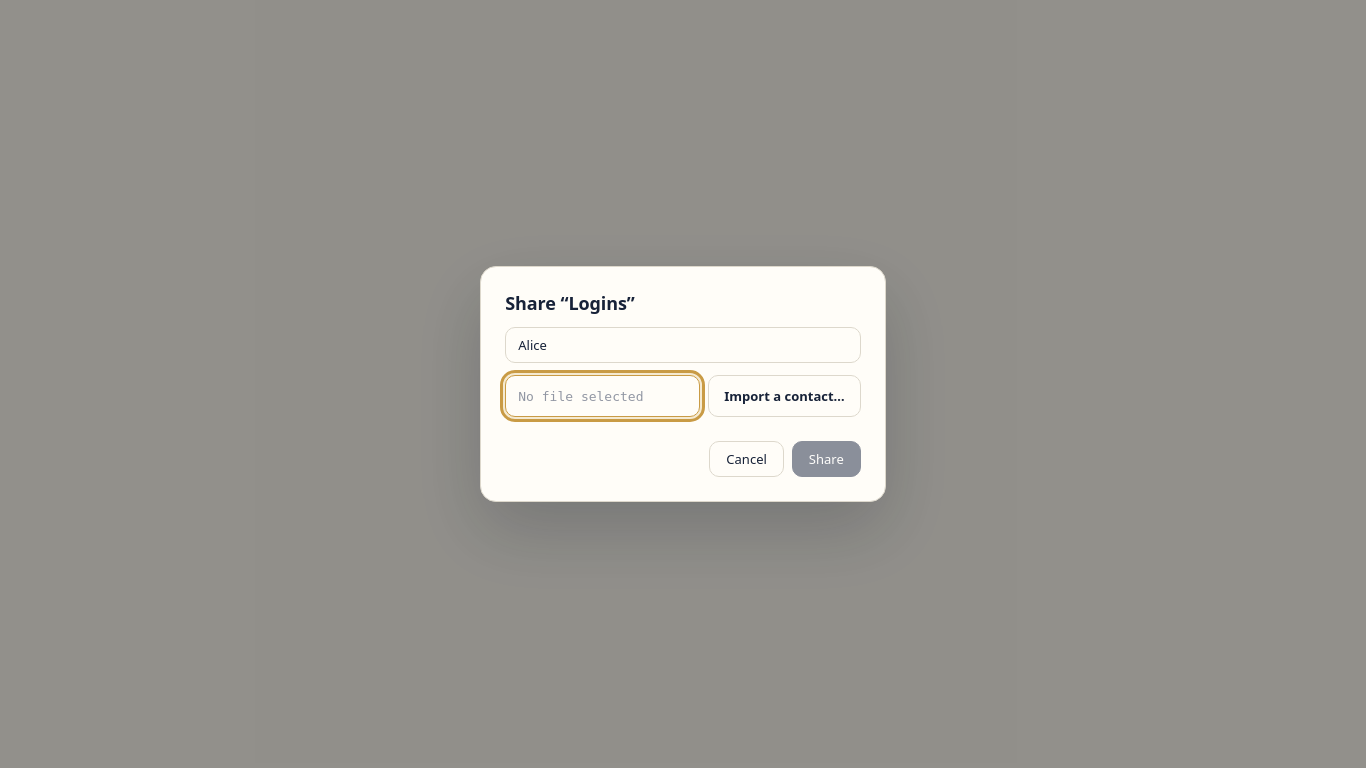
Test case: ShareDialog.svelte › renders a typed error message when sharing fails
Click the button "Alice": (533,345) [505, 327, 861, 363]
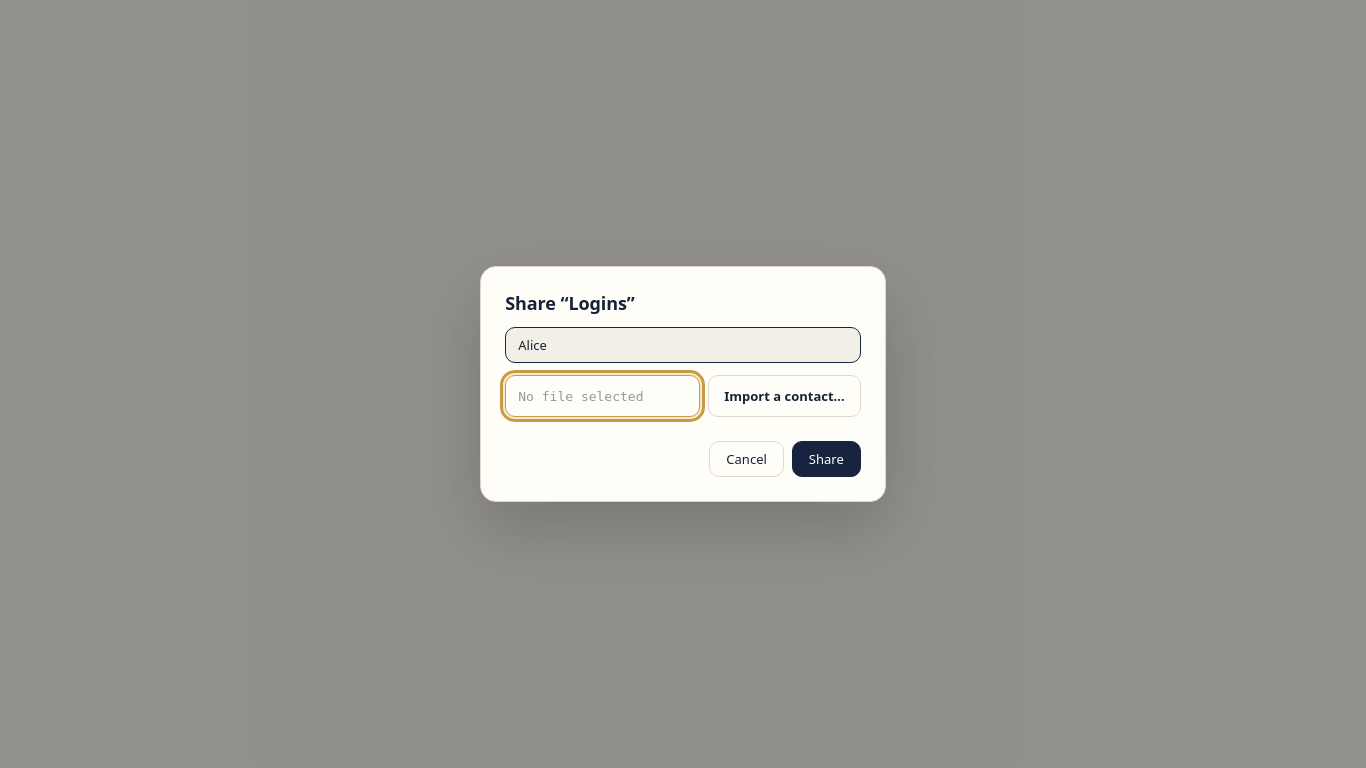
Click the button "Share": (826,459) [792, 441, 861, 477]
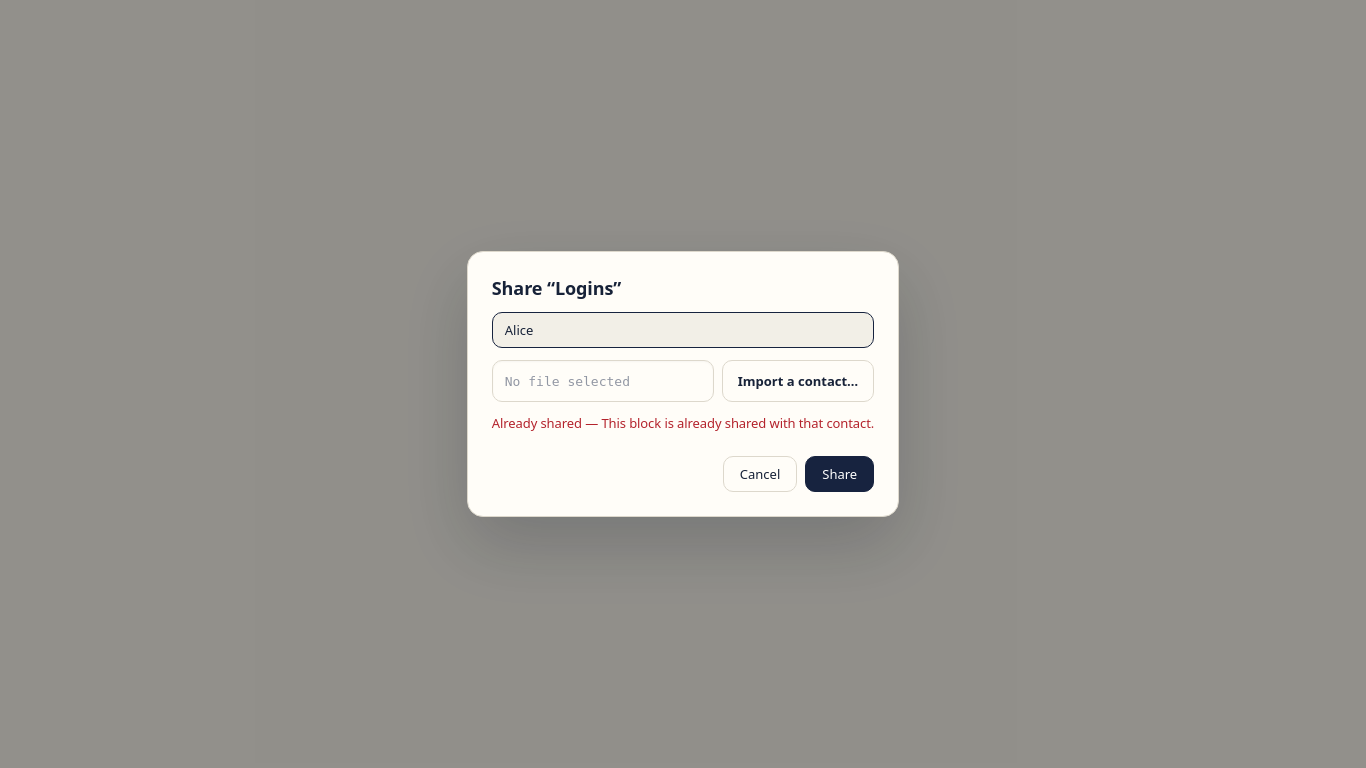
Expected: the text "Already shared — This block is already shared with that contact." is shown, [492, 414, 874, 432]
